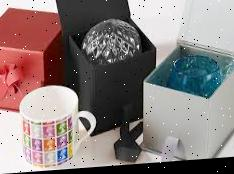cube: (143, 44, 234, 166)
